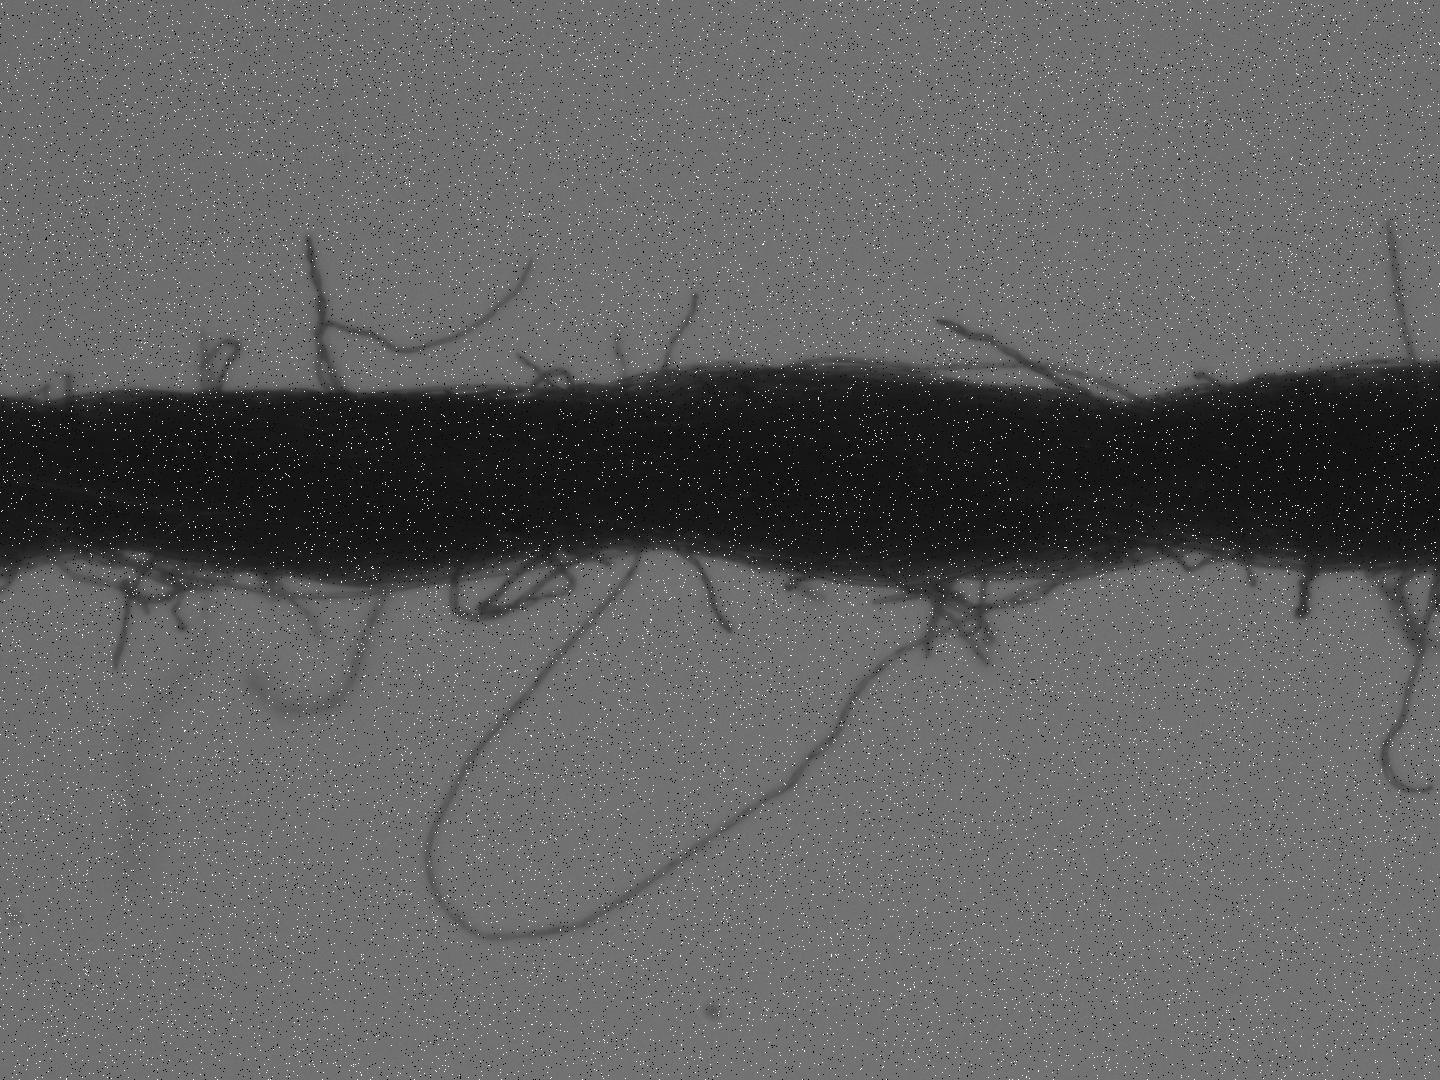loop_fiber: (446, 532, 608, 625), (42, 540, 243, 613), (853, 562, 1073, 618), (1149, 528, 1272, 582), (782, 353, 967, 385), (491, 358, 598, 403), (185, 335, 248, 397), (10, 376, 68, 414)
protruding_fiber: (933, 311, 1111, 414), (1380, 214, 1422, 371)
